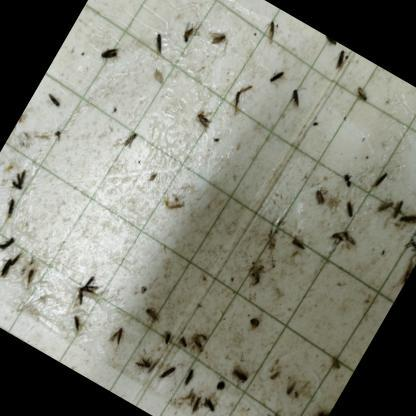prays_oleae: (67, 270, 102, 310), (184, 102, 220, 140), (306, 180, 336, 214), (94, 40, 125, 72), (185, 330, 215, 363), (127, 346, 157, 379), (0, 248, 24, 289), (225, 85, 252, 120), (225, 358, 253, 390), (258, 14, 284, 48), (6, 164, 34, 195), (116, 127, 144, 158), (155, 358, 182, 390), (338, 194, 365, 226), (154, 318, 180, 351), (146, 30, 172, 61), (284, 231, 312, 259), (197, 387, 223, 416), (104, 320, 129, 350), (41, 90, 69, 116), (375, 189, 399, 219), (139, 303, 165, 330), (349, 82, 375, 109), (323, 223, 349, 250), (340, 224, 366, 251), (65, 311, 90, 338), (185, 388, 208, 416), (329, 46, 351, 74), (204, 28, 228, 53), (284, 85, 307, 111), (0, 196, 22, 222), (386, 196, 406, 224), (0, 229, 19, 258), (266, 65, 288, 89), (172, 330, 194, 354), (395, 208, 416, 233), (244, 313, 264, 337), (370, 170, 390, 192), (180, 364, 198, 388)
